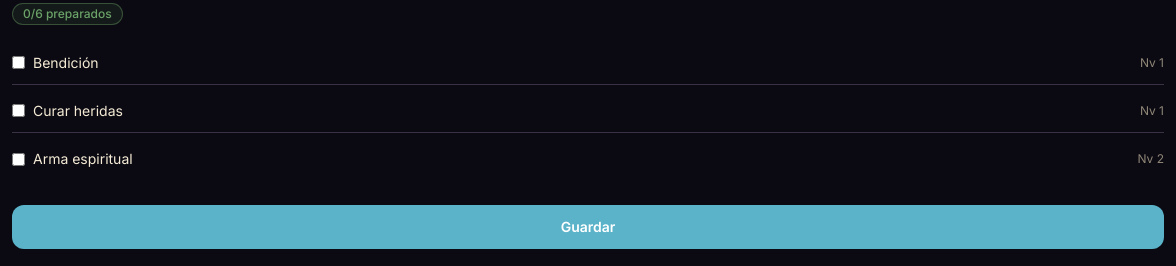
Scenario: SpellPrepEditor › T4: checking a spell increments the counter
expect the text "0/6 preparados" is shown: met, box [12,3,123,25]
Click the checkbox labelled "Bendición Nv 1".
click(18, 62)  # box [12,56,25,69]
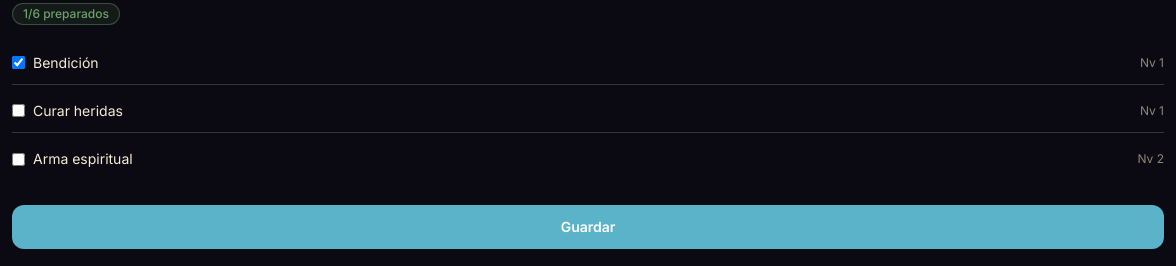
expect the text "1/6 preparados" is shown: met, box [12,3,120,25]
